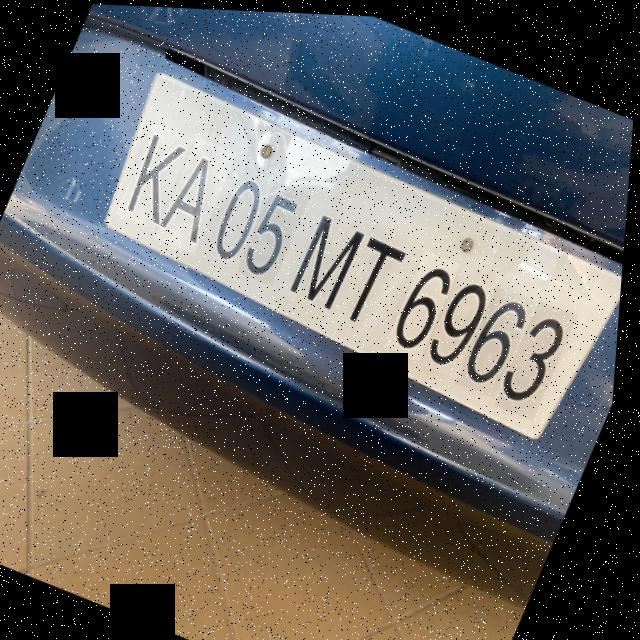0: (203, 161, 278, 266)
3: (499, 294, 582, 416)
5: (239, 177, 314, 284)
6: (459, 279, 540, 395), (389, 245, 464, 357)
9: (425, 262, 503, 375)
A: (157, 133, 240, 253)
K: (117, 120, 195, 229)
M: (282, 196, 378, 314)
T: (336, 219, 423, 338)
